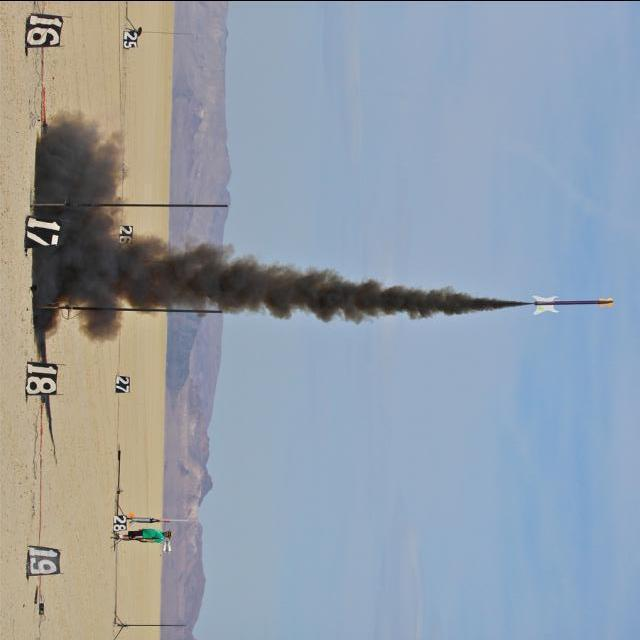missile: (510, 280, 619, 331)
